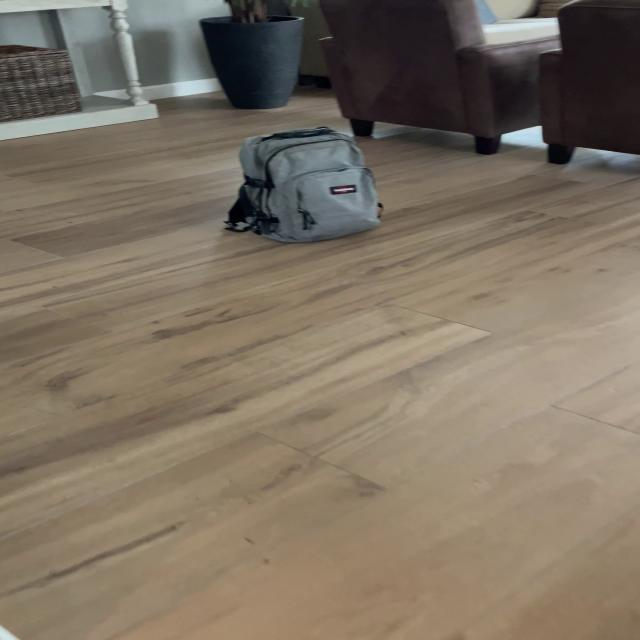backpack: (216, 121, 388, 248)
